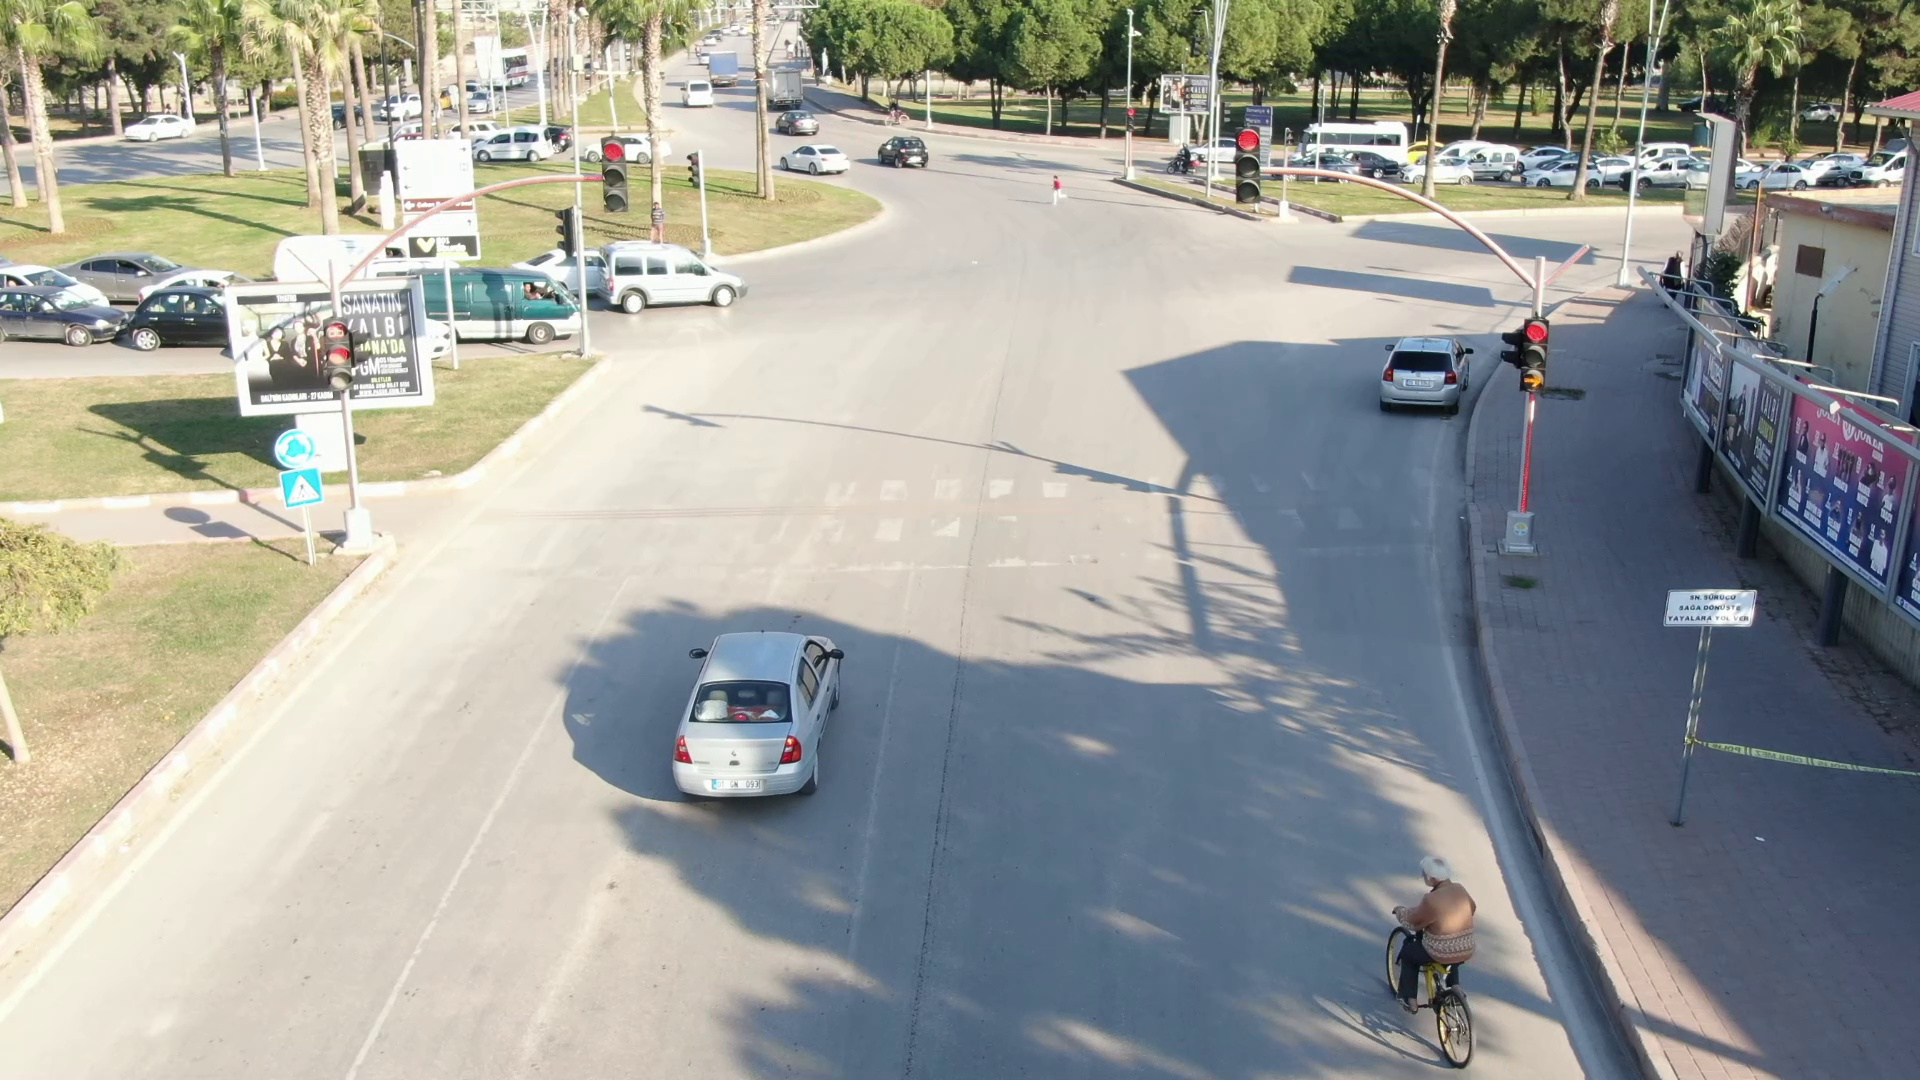car: (623, 584, 893, 862), (587, 231, 769, 334), (1350, 314, 1484, 432), (774, 137, 861, 188), (469, 121, 563, 169), (870, 127, 937, 185), (672, 75, 723, 115)
person: (1386, 828, 1499, 965), (1027, 152, 1082, 219)
